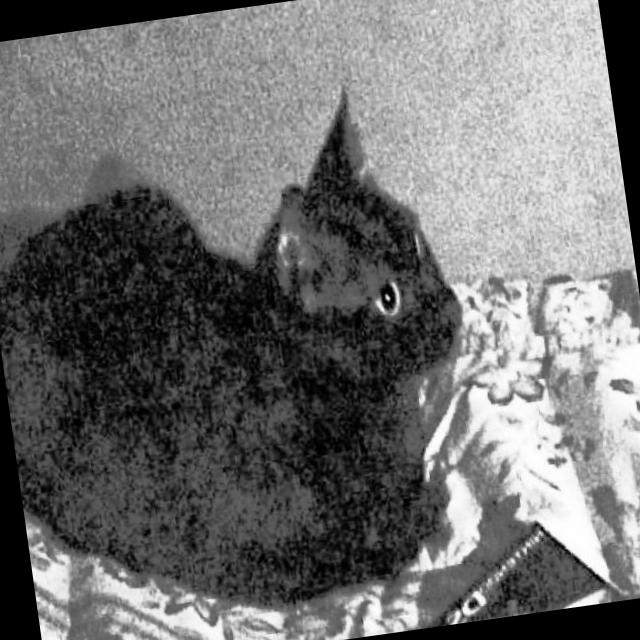Cat: (0, 54, 511, 640)
